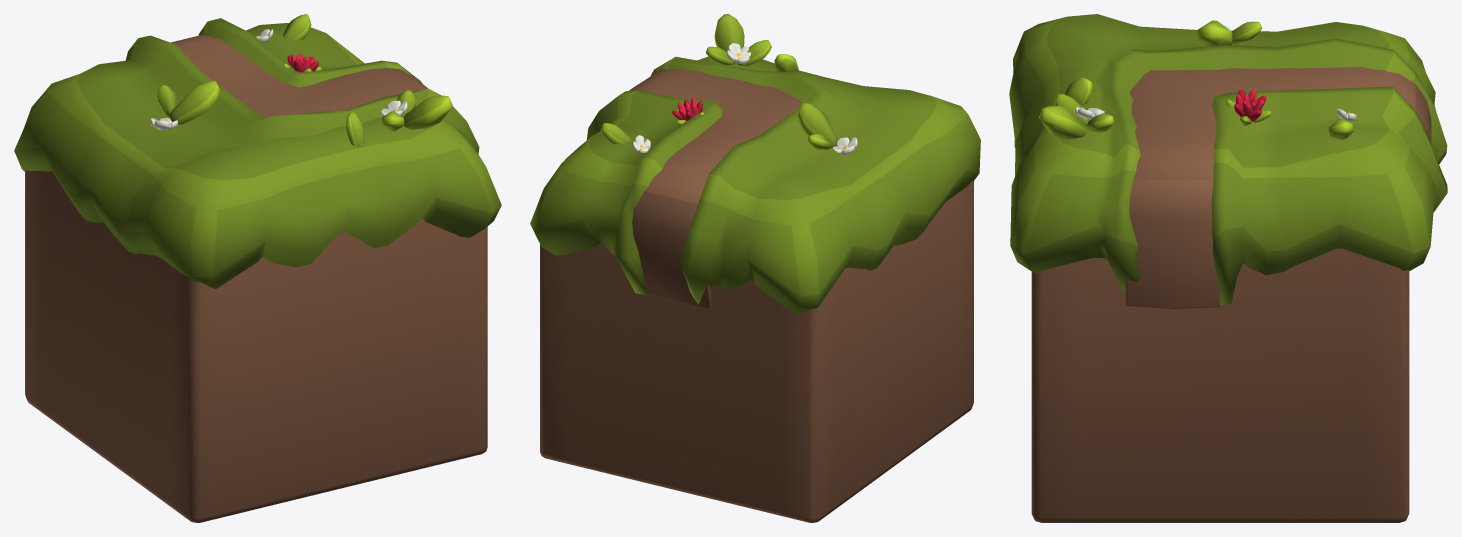
File: Spring4.fbx
The picture shows the model from 3 angles, left to right: view 1: azimuth 30°, elevation 25°; view 2: azimuth 150°, elevation 25°; view 3: azimuth 270°, elevation 25°; orthographic projection. The views are drawn at different scales.
Visible parts, largest first — view 1: Spring4, Spring_Cube4.002, Spring4.001, Spring_Cube_04.002; view 2: Spring4, Spring_Cube4.002, Spring4.001, Spring_Cube_04.002; view 3: Spring4, Spring_Cube4.002, Spring4.001, Spring_Cube_04.002.
Part boxes in pixels (x1=…): Spring4: x1=25, y1=170, x2=487, y2=522; Spring_Cube4.002: x1=14, y1=18, x2=501, y2=288; Spring4.001: x1=171, y1=34, x2=427, y2=118; Spring_Cube_04.002: x1=150, y1=14, x2=452, y2=147; Spring4: x1=540, y1=180, x2=973, y2=522; Spring_Cube4.002: x1=530, y1=56, x2=980, y2=314; Spring4.001: x1=629, y1=68, x2=802, y2=309; Spring_Cube_04.002: x1=600, y1=14, x2=857, y2=155; Spring4: x1=1031, y1=248, x2=1409, y2=522; Spring_Cube4.002: x1=1009, y1=14, x2=1447, y2=305; Spring4.001: x1=1126, y1=67, x2=1431, y2=308; Spring_Cube_04.002: x1=1039, y1=20, x2=1356, y2=139.
Size of the model in its own units: 116 by 117 by 116.
